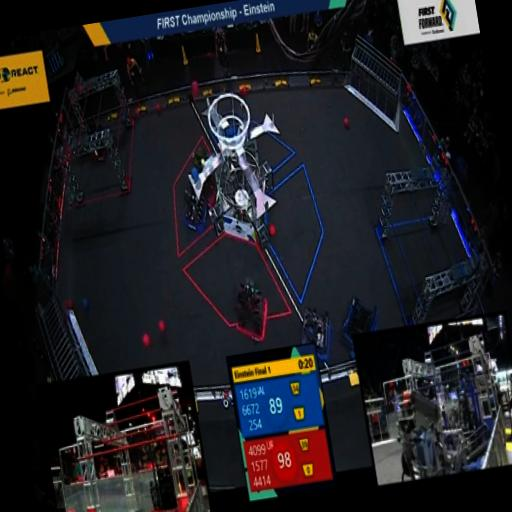robot: (222, 264, 280, 348), (329, 278, 385, 356), (288, 290, 338, 364), (174, 180, 214, 248), (77, 108, 117, 171)
